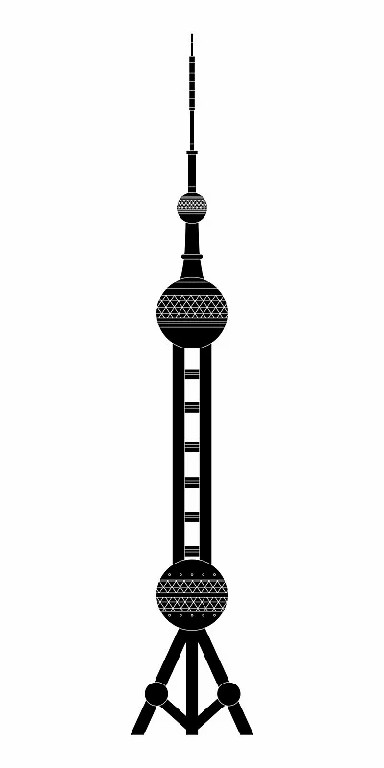Oriental: (130, 33, 253, 734)
